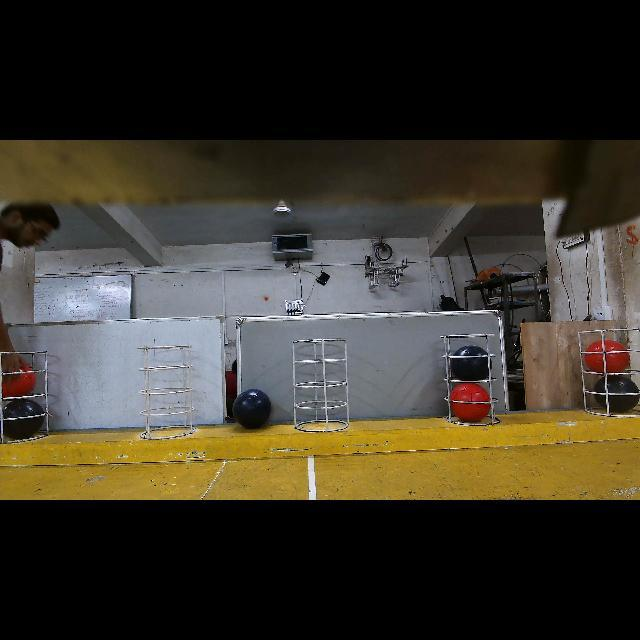P: (594, 375, 639, 412), (3, 399, 44, 439), (451, 345, 492, 381)
R: (585, 340, 630, 373), (451, 383, 489, 422)
S: (438, 332, 502, 428), (290, 338, 350, 434), (578, 328, 640, 420), (138, 344, 195, 442), (0, 351, 50, 444)
